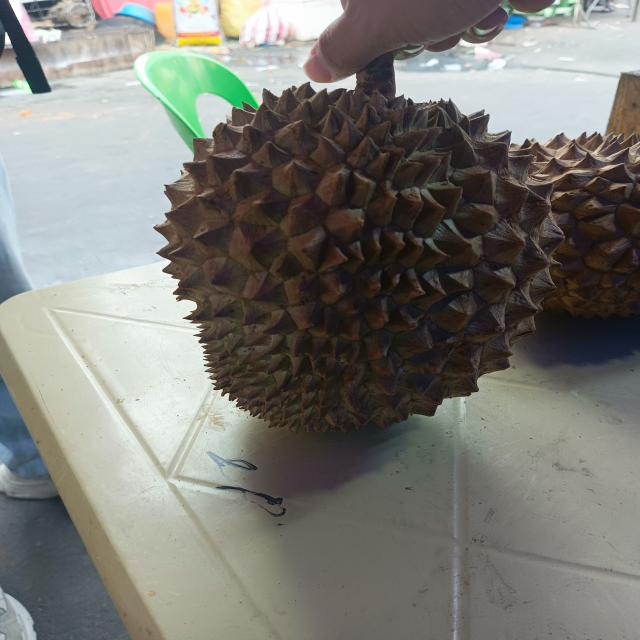mature: (157, 73, 564, 432), (515, 134, 640, 318)
